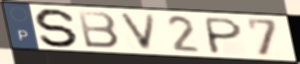2: (165, 14, 203, 54)
7: (246, 17, 282, 58)
B: (75, 9, 122, 51)
P: (204, 16, 244, 56)
S: (33, 7, 81, 49)
V: (116, 11, 159, 53)
